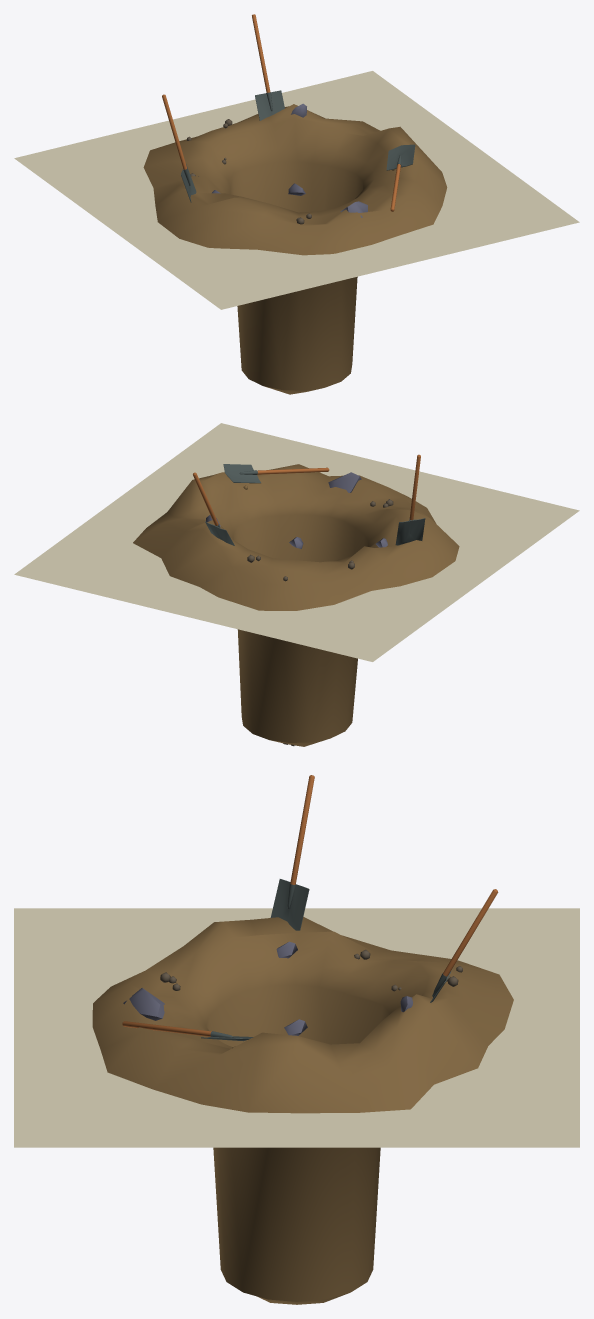
Rendered from Yama.fbx.
3 renders of one model, top to bottom at view 1: azimuth 30°, elevation 25°; view 2: azimuth 150°, elevation 25°; view 3: azimuth 270°, elevation 25°, orthographic. The views are drawn at different scales.
Visible parts, largest first — view 1: Zemlica, Plane, Lopata.001, Lopata.002, Lopata; view 2: Zemlica, Plane, Lopata.002, Lopata, Lopata.001; view 3: Zemlica, Plane, Lopata, Lopata.002, Lopata.001.
Boxes of the visible parts, x1,y1,x2,y2 form: Zemlica: [143, 103, 447, 394]; Plane: [14, 71, 579, 309]; Lopata.001: [252, 14, 284, 120]; Lopata.002: [386, 144, 415, 211]; Lopata: [162, 94, 196, 202]; Zemlica: [133, 464, 459, 746]; Plane: [14, 423, 579, 661]; Lopata.002: [223, 464, 329, 483]; Lopata: [395, 454, 425, 545]; Lopata.001: [193, 472, 234, 545]; Zemlica: [92, 917, 513, 1304]; Plane: [14, 908, 579, 1147]; Lopata: [270, 775, 314, 930]; Lopata.002: [122, 1021, 253, 1041]; Lopata.001: [430, 889, 498, 1002].
Bounding box in the file's own units: 4 × 3.39 × 4.
